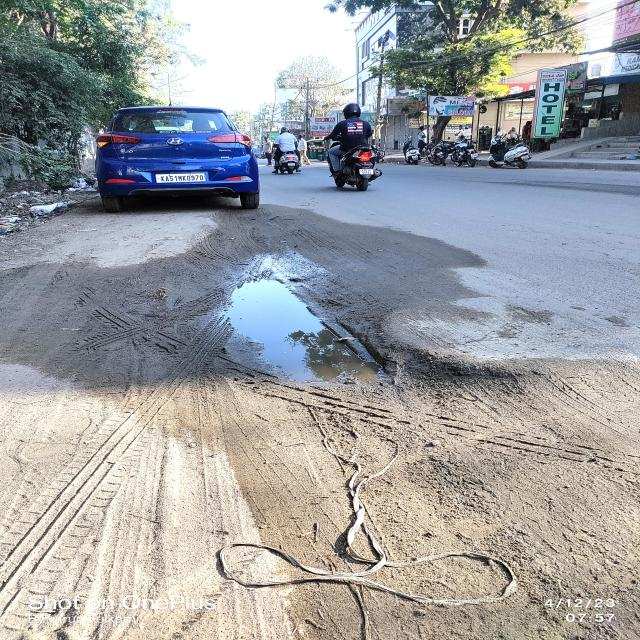potholes: (194, 254, 399, 393)
